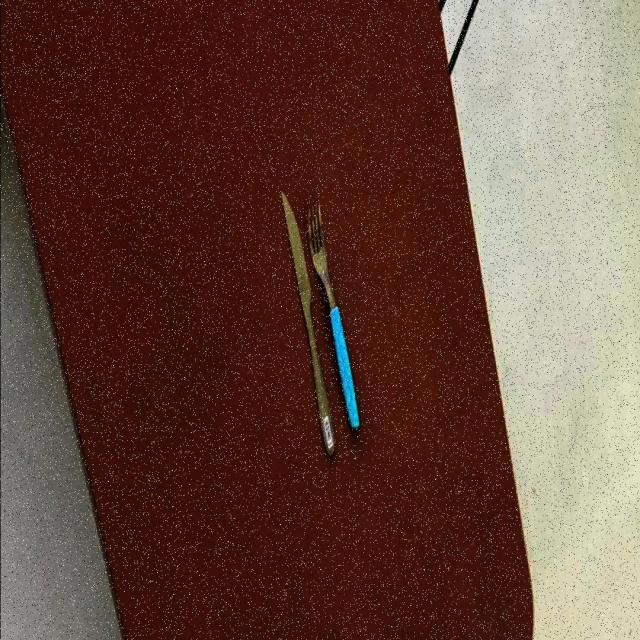Fork: (307, 201, 361, 433)
Knife: (280, 191, 336, 458)
